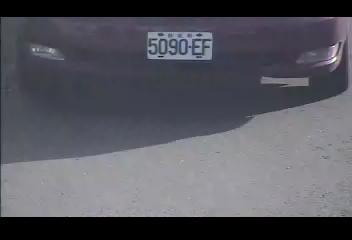plate: (145, 29, 213, 61)
